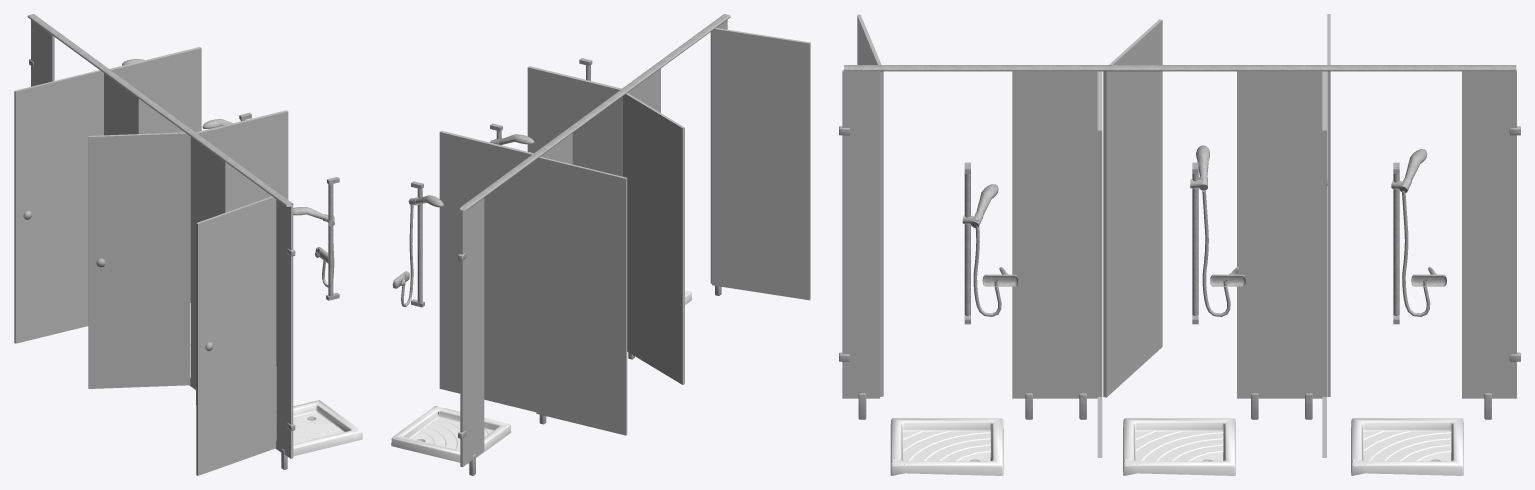
Rendered from Bath01.FBX.
3 views of the same model, side by side, from view 1: azimuth 30°, elevation 25°; view 2: azimuth 150°, elevation 25°; view 3: azimuth 270°, elevation 25° (orthographic). The views are drawn at different scales.
Visible parts, largest first — view 1: Door2, BathsWood, Door3, Door01, 002, BathsMetall, BathsShower; view 2: BathsWood, Door3, Door01, Door2, 002, BathsMetall, BathsShower; view 3: BathsWood, Door2, 002, BathsShower, BathsMetall, Door3, Door01.
Boxes of the visible parts, x1,y1,x2,y2 form: Door2: [88, 132, 189, 388]; BathsWood: [31, 20, 293, 458]; Door3: [196, 196, 275, 475]; Door01: [14, 70, 103, 343]; 002: [189, 344, 362, 456]; BathsMetall: [27, 14, 295, 469]; BathsShower: [122, 59, 339, 300]; BathsWood: [439, 20, 727, 466]; Door3: [712, 28, 810, 300]; Door01: [536, 156, 627, 435]; Door2: [623, 93, 684, 384]; 002: [391, 290, 691, 464]; BathsMetall: [458, 14, 730, 475]; BathsShower: [392, 58, 592, 307]; BathsWood: [842, 70, 1516, 457]; Door2: [1103, 19, 1162, 397]; 002: [890, 418, 1463, 475]; BathsShower: [962, 145, 1446, 324]; BathsMetall: [839, 65, 1520, 419]; Door3: [857, 14, 883, 396]; Door01: [1327, 14, 1330, 396].
Size of the model in its own units: 59.14 by 82.9 by 146.
